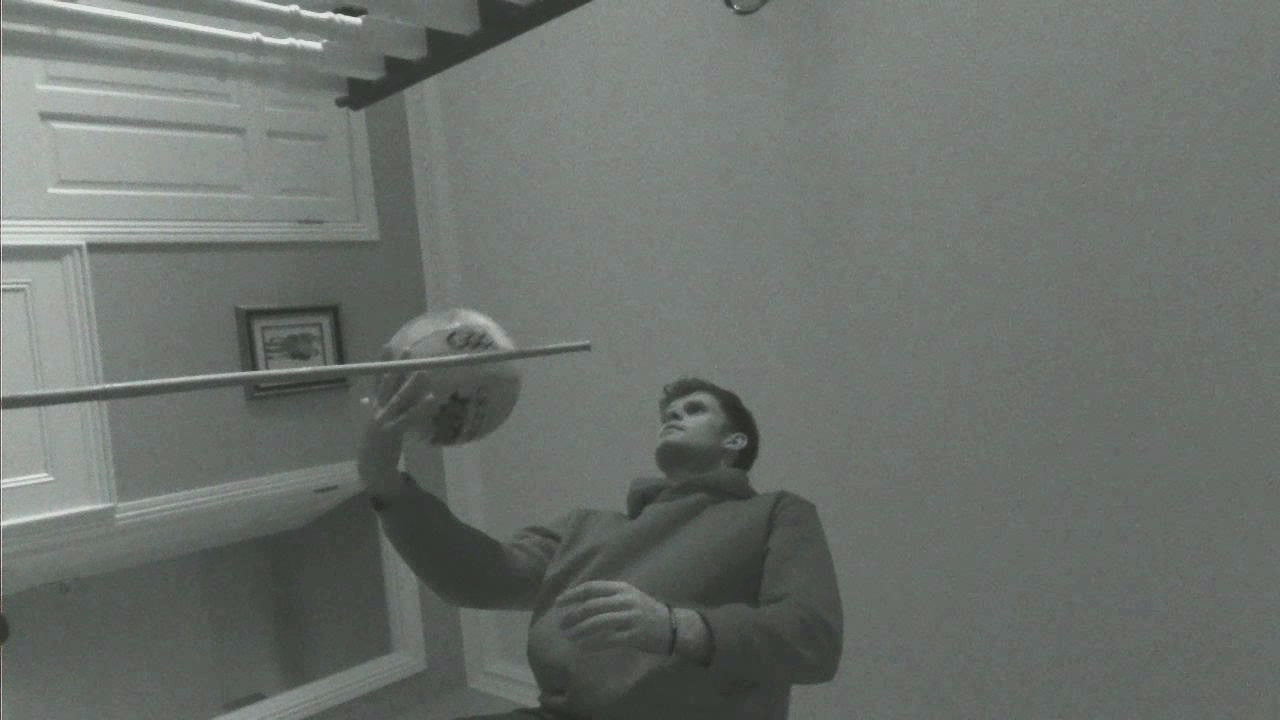Football-Spotter: (414, 362, 520, 444), (391, 309, 515, 357)
